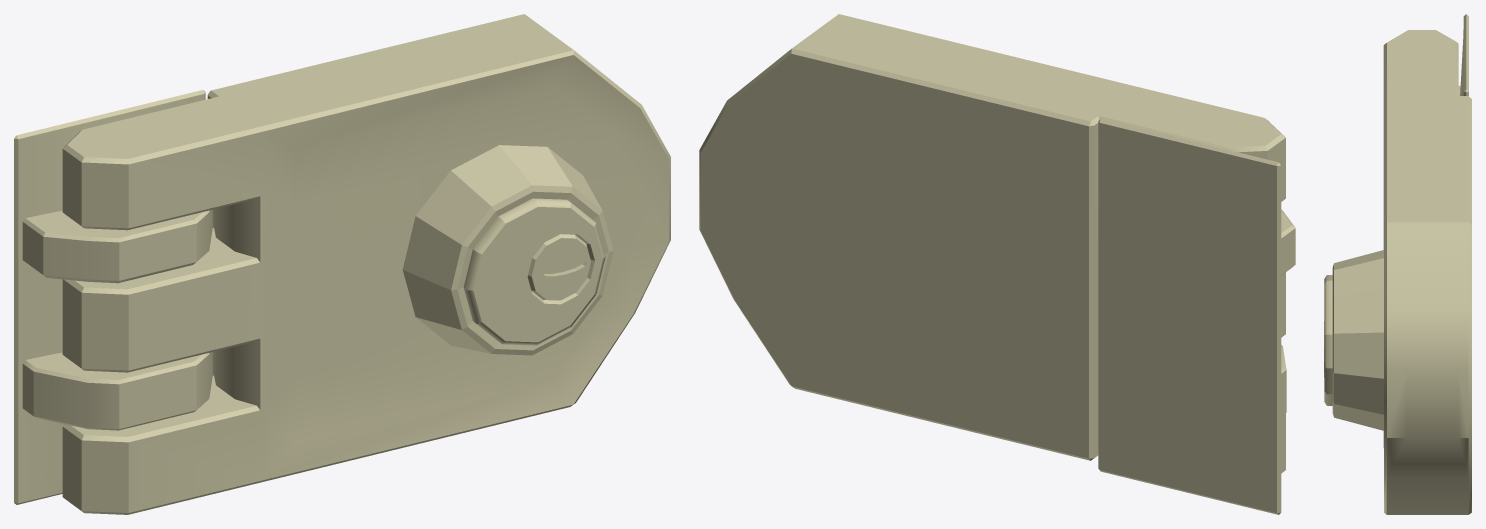
The model's file is Door_Lock.fbx.
3 renders of one model, left to right at view 1: azimuth 30°, elevation 25°; view 2: azimuth 150°, elevation 25°; view 3: azimuth 270°, elevation 25°, orthographic. The views are drawn at different scales.
Visible parts, largest first — view 1: Door_Lock_Base, Doork_Lock_Hinge; view 2: Door_Lock_Base, Doork_Lock_Hinge; view 3: Door_Lock_Base, Doork_Lock_Hinge.
Boxes of the visible parts, x1,y1,x2,y2 form: Door_Lock_Base: (62, 14, 670, 514); Doork_Lock_Hinge: (14, 90, 212, 504); Door_Lock_Base: (699, 14, 1285, 473); Doork_Lock_Hinge: (1098, 119, 1295, 514); Door_Lock_Base: (1324, 30, 1471, 514); Doork_Lock_Hinge: (1458, 14, 1468, 95).
Bounding box in the file's own units: 10.01 × 5.81 × 2.55.
